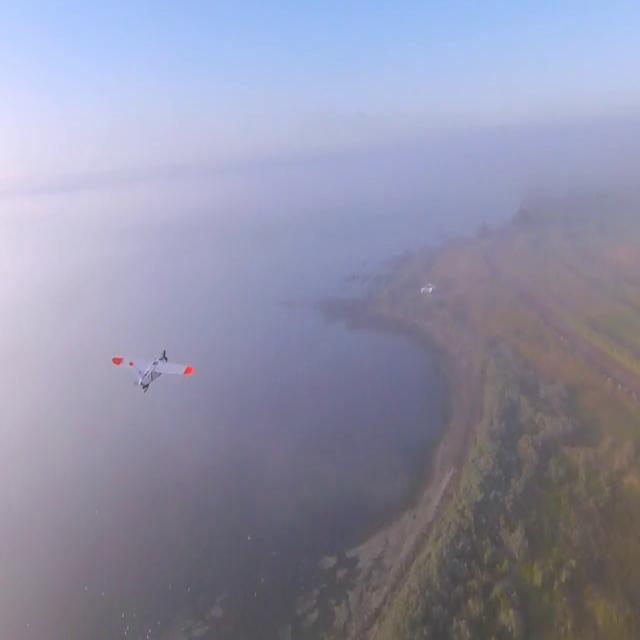iha: (144, 350, 166, 392)
